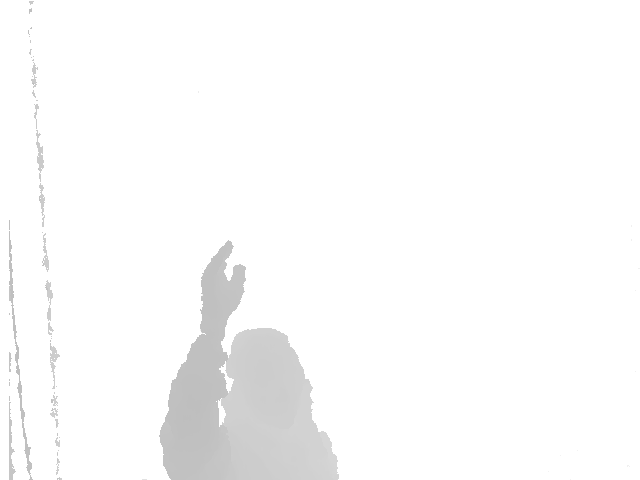hand: (196, 239, 249, 336)
head: (224, 329, 316, 431)
person: (158, 239, 339, 480)
